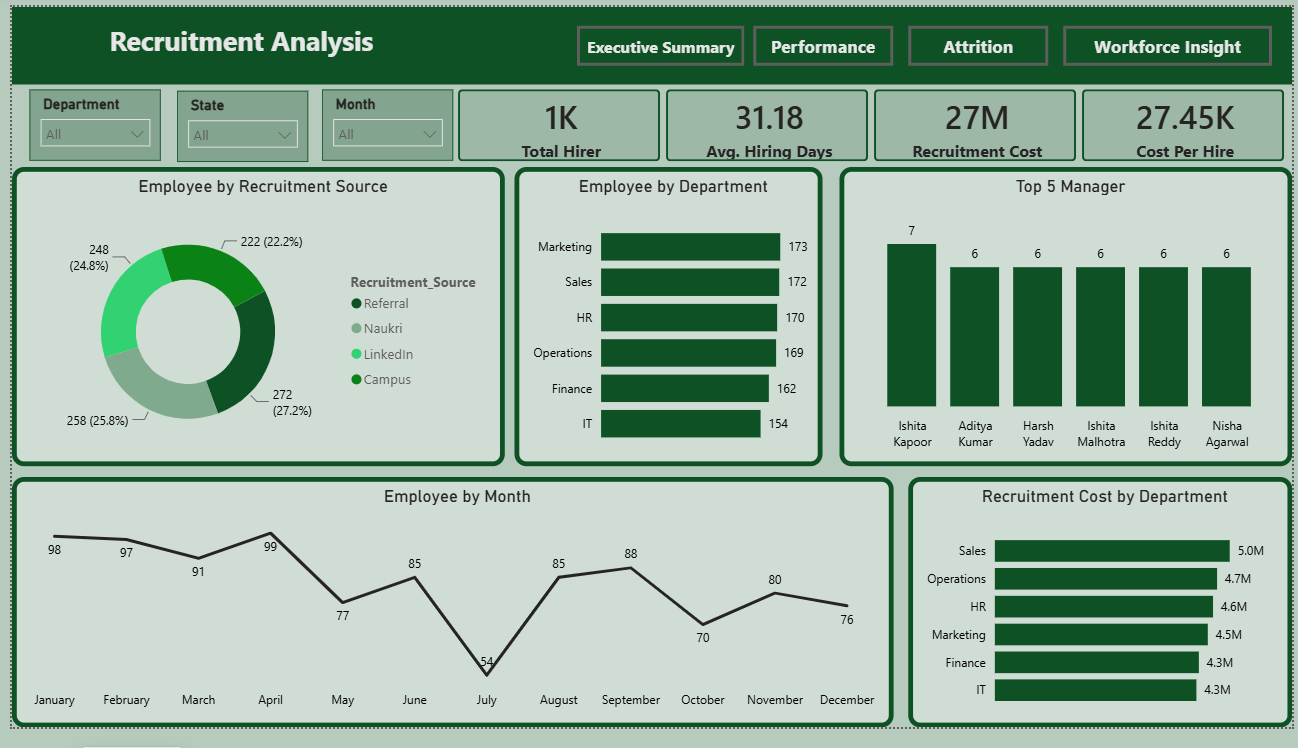

The dashboard page shown, as its layout file describes it:
{"tool":"powerbi","page":{"name":"Recruitment","canvas":[1280,720],"ordinal":1},"visuals":[{"type":"shape","box":[0,0,1280,77.5],"z":0},{"type":"actionButton","box":[741.2,18.8,140,40],"z":1000},{"type":"actionButton","box":[896.2,18.8,140,40],"z":2000},{"type":"actionButton","box":[1051.2,18.8,208.8,40],"z":3000},{"type":"actionButton","box":[565,18.8,167.5,40],"z":4000},{"type":"textbox","box":[0,10,458.8,58.8],"z":5000},{"type":"donutChart","title":"Employee by Recruitment Source","fields":{"Category":["Hr_Analytics.Recruitment_Source"],"Y":["CountNonNull(Hr_Analytics.Employee_ID)"]},"box":[0,160.2,492.8,299.6],"z":6000},{"type":"lineChart","title":"Employee by Month","fields":{"Category":["Hr_Analytics.Hire_Date.Variation.Date Hierarchy.Month"],"Y":["CountNonNull(Hr_Analytics.Employee_ID)"]},"box":[0,470,881.2,250],"z":7000},{"type":"barChart","title":"Employee by Department","fields":{"Category":["Hr_Analytics.Department"],"Y":["CountNonNull(Hr_Analytics.Employee_ID)"]},"box":[502.6,160.2,308.2,299.6],"z":8000},{"type":"clusteredBarChart","title":"Recruitment Cost by Department","fields":{"Category":["Hr_Analytics.Department"],"Y":["Sum(Hr_Analytics.Recruitment_Cost)"]},"box":[896.2,470,383.8,250],"z":9000},{"type":"columnChart","title":"Top 5 Manager","fields":{"Category":["Hr_Analytics.Manager"],"Y":["CountNonNull(Hr_Analytics.Employee_ID)"]},"box":[827.9,160.2,452.4,299.6],"z":10000},{"type":"cardVisual","fields":{"Data":["CountNonNull(Hr_Analytics.Employee_ID)","Avg(Hr_Analytics.Hiring_Time_Days)","Sum(Hr_Analytics.Recruitment_Cost)","Hr_Analytics.Cost Per Hire"]},"box":[441.2,77.5,838.8,82.5],"z":11000},{"type":"slicer","fields":{"Values":["Hr_Analytics.Department"]},"box":[17.5,82.5,131.2,71.2],"z":12000},{"type":"slicer","fields":{"Values":["Hr_Analytics.State"]},"box":[165,83.8,131.2,71.2],"z":13000},{"type":"slicer","fields":{"Values":["Hr_Analytics.Hire_Date.Variation.Date Hierarchy.Month"]},"box":[310,82.5,131.2,71.2],"z":14000}]}

Visuals, with their boxes in screenshot pixels (x1, y1, x2, y2), scaled from the page's 1280x720 canvas onto the 1298x748 screenshot:
shape: l=0, t=0, r=1297, b=81
actionButton: l=752, t=20, r=894, b=61
actionButton: l=909, t=20, r=1051, b=61
actionButton: l=1066, t=20, r=1278, b=61
actionButton: l=573, t=20, r=743, b=61
textbox: l=0, t=10, r=465, b=71
"Employee by Recruitment Source" donutChart: l=0, t=166, r=500, b=478
"Employee by Month" lineChart: l=0, t=488, r=894, b=747
"Employee by Department" barChart: l=510, t=166, r=822, b=478
"Recruitment Cost by Department" clusteredBarChart: l=909, t=488, r=1297, b=747
"Top 5 Manager" columnChart: l=840, t=166, r=1297, b=478
cardVisual - CountNonNull(Hr_Analytics.Employee_ID) x Avg(Hr_Analytics.Hiring_Time_Days): l=447, t=81, r=1297, b=166
slicer - Hr_Analytics.Department: l=18, t=86, r=151, b=160
slicer - Hr_Analytics.State: l=167, t=87, r=300, b=161
slicer - Hr_Analytics.Hire_Date.Variation.Date Hierarchy.Month: l=314, t=86, r=447, b=160
